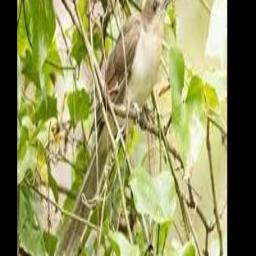Cuckoo: (56, 0, 172, 256)
